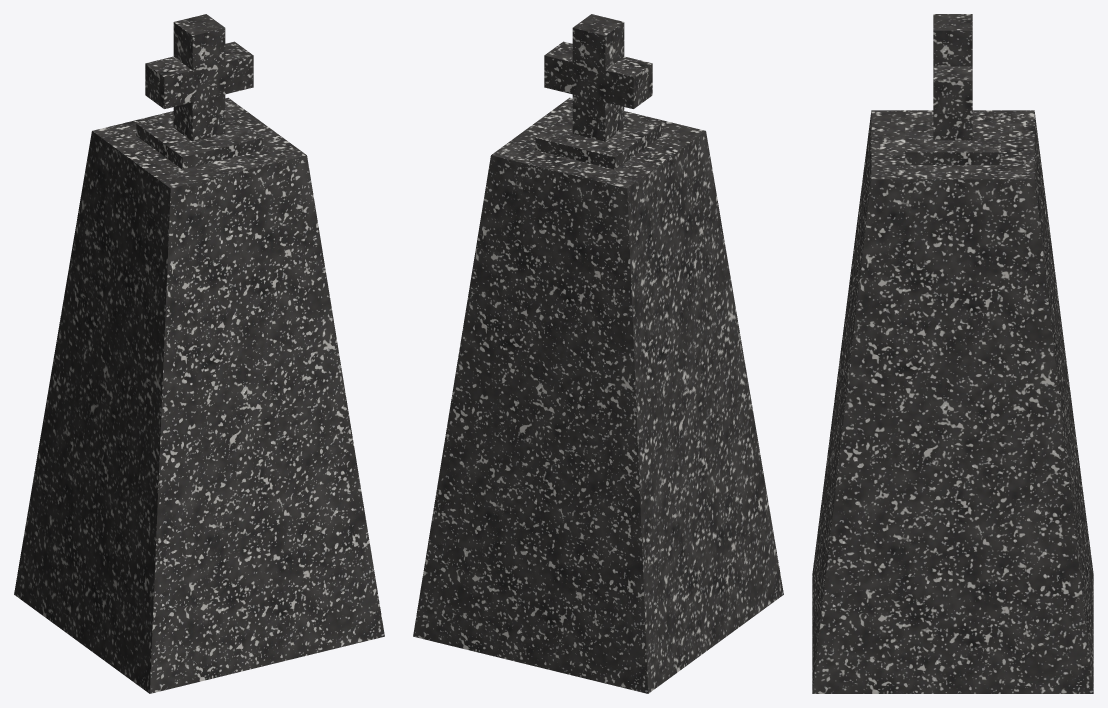
File: king-black-hd.glb
3 views of the same model, side by side, from view 1: azimuth 30°, elevation 25°; view 2: azimuth 150°, elevation 25°; view 3: azimuth 270°, elevation 25° (orthographic). The views are drawn at different scales.
Visible parts, largest first — view 1: Black_King; view 2: Black_King; view 3: Black_King.
Part boxes in pixels (<box>): Black_King: <box>14,14,384,693</box>; Black_King: <box>413,14,783,693</box>; Black_King: <box>812,14,1093,693</box>.
Bounding box in the file's own units: 0.6875 × 1.65 × 0.6875.
1 material, 1 textured.
